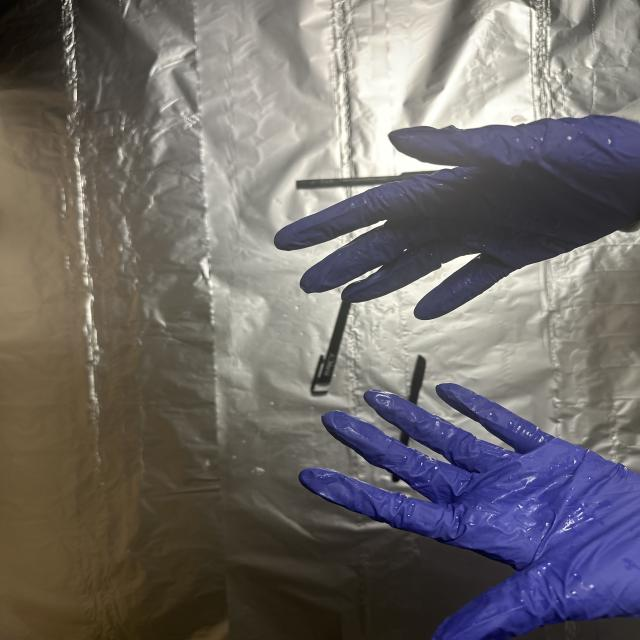gloves_contaminated: (299, 383, 640, 640), (274, 115, 640, 320)
